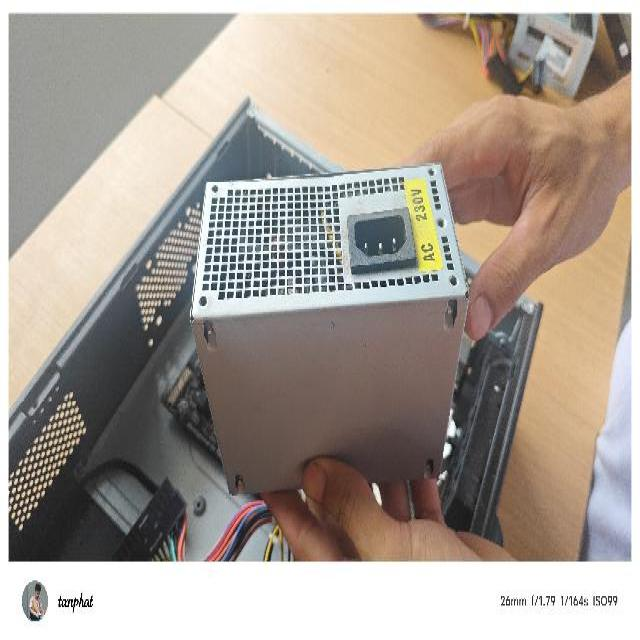PSU: (189, 162, 470, 500)
